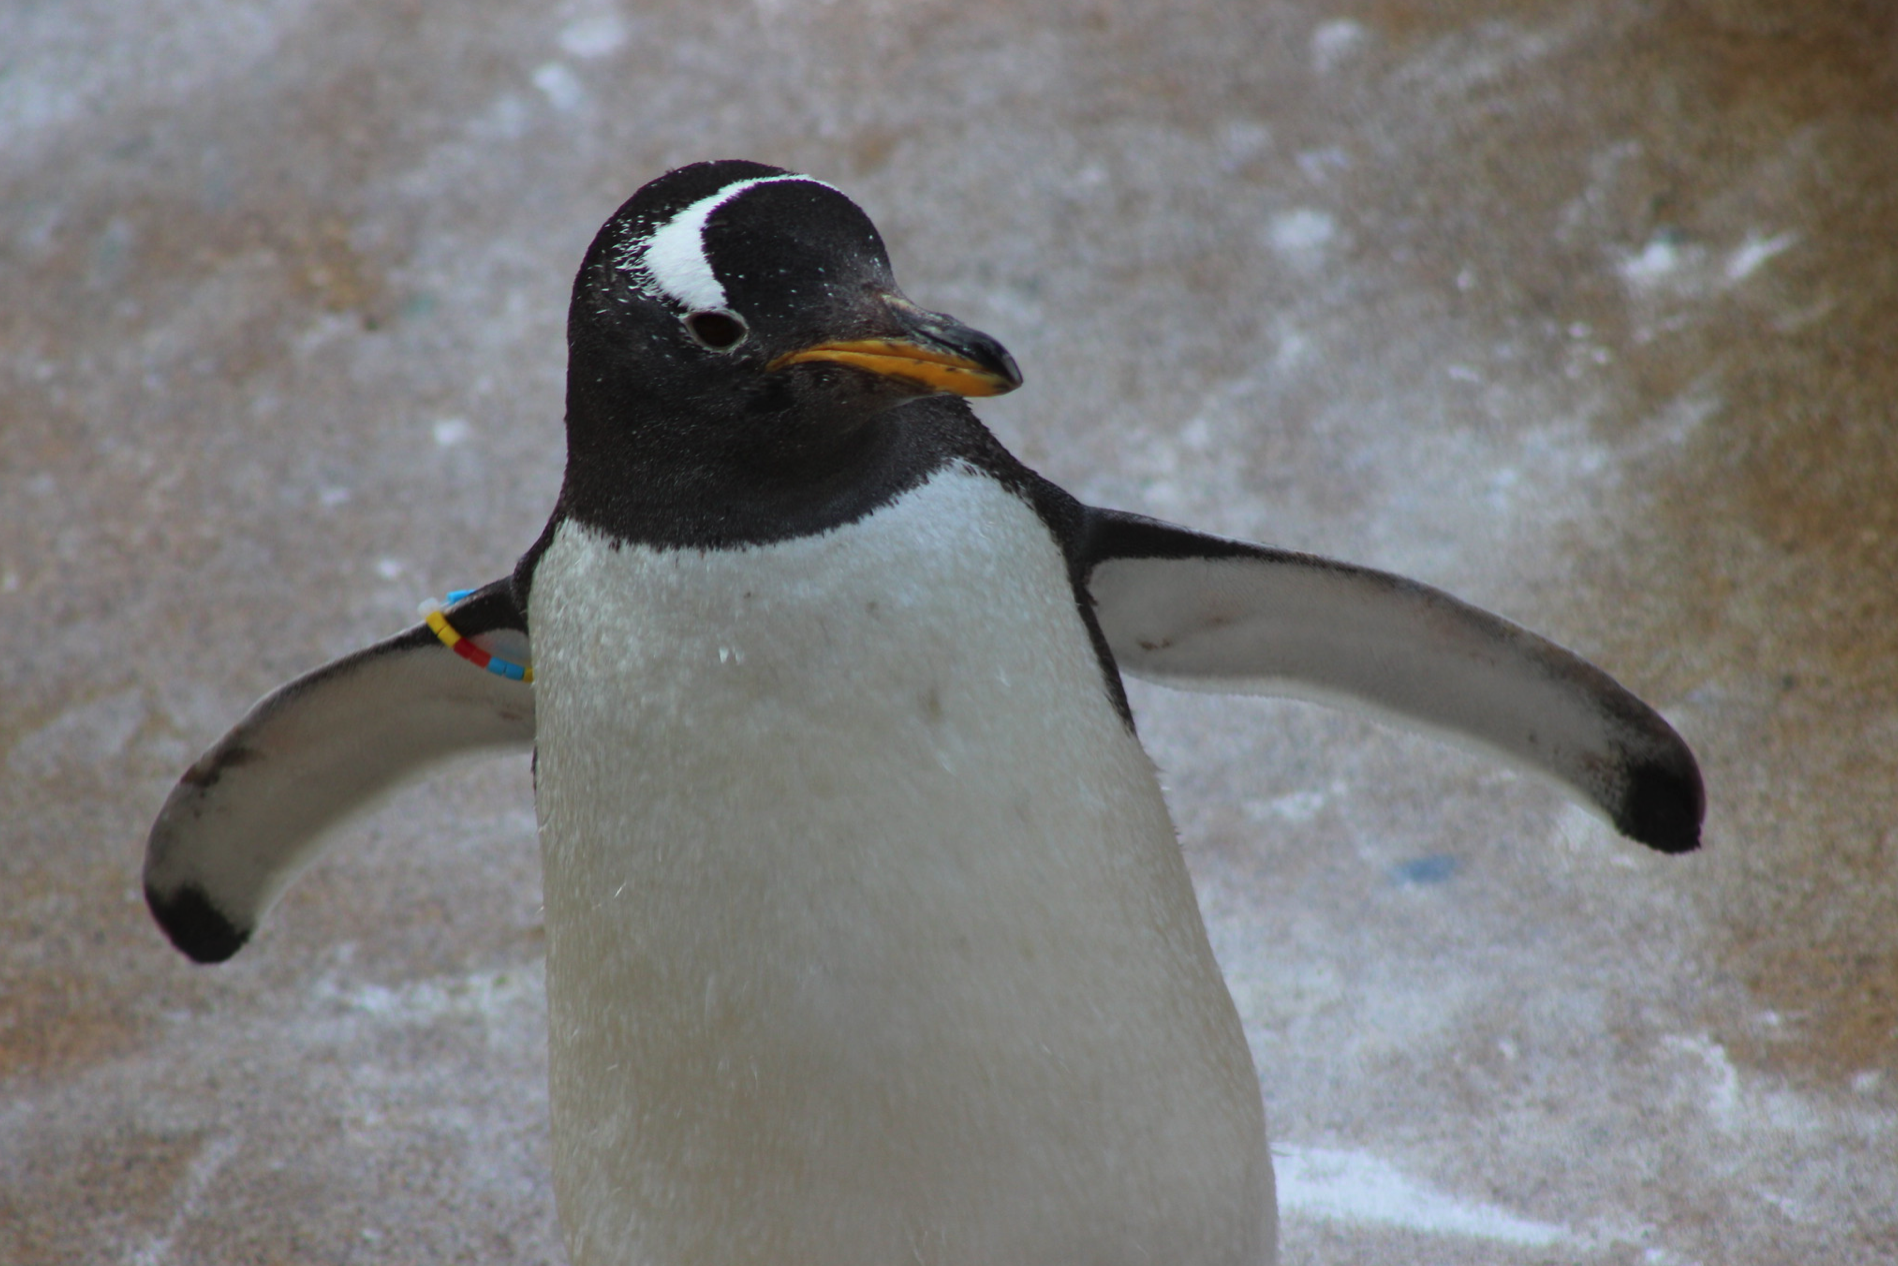penguin: (123, 164, 1707, 1266)
